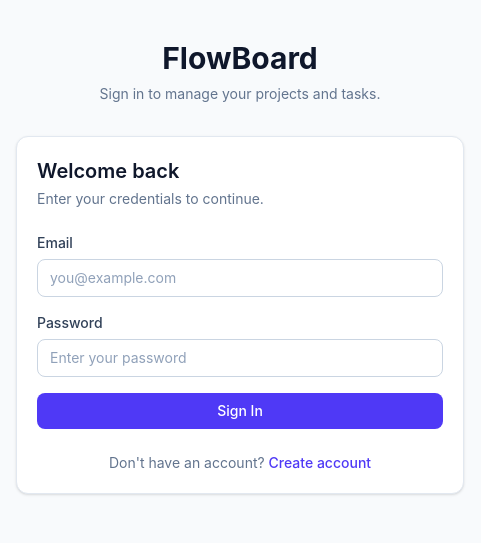
Test case: LoginPage › should show an error when login fails
The width and height of the screenshot is (481, 543).
Type "wrong@example.com" into the field labelled "Email" at (240, 278), box [37, 259, 443, 297]
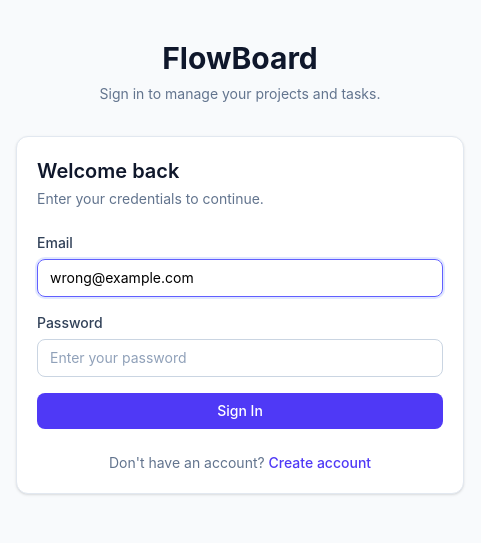
Type "WrongPassword123" into the password field labelled "Password" at (240, 358), box [37, 339, 443, 377]
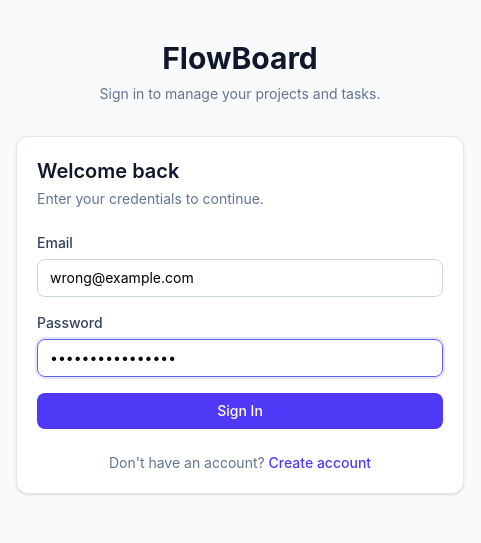
Click the button "Sign In" at (240, 411), box [37, 393, 443, 429]
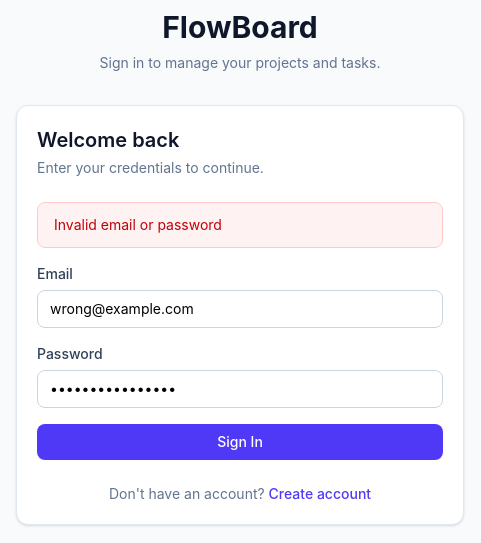
Now the text "Invalid email or password" is shown, box [37, 202, 443, 248]
